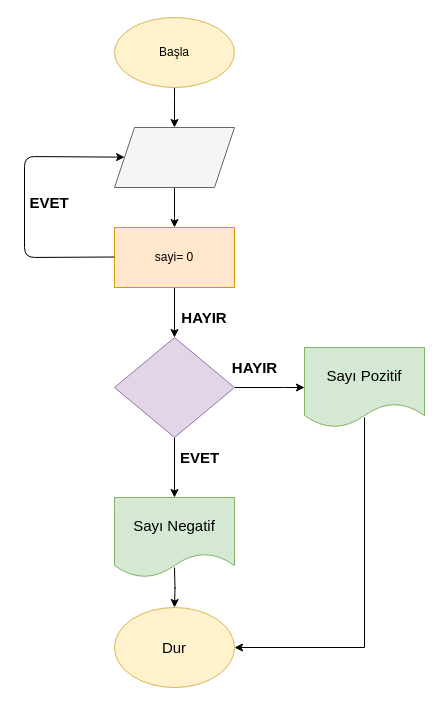
Some shapes in this 442 by 705 pixel diagram are drawn without their labels. Here are the shapes that lost their labels. From the top down, the centre of each, then its label:
point 174,157: sayi
point 174,387: sayi < 0
